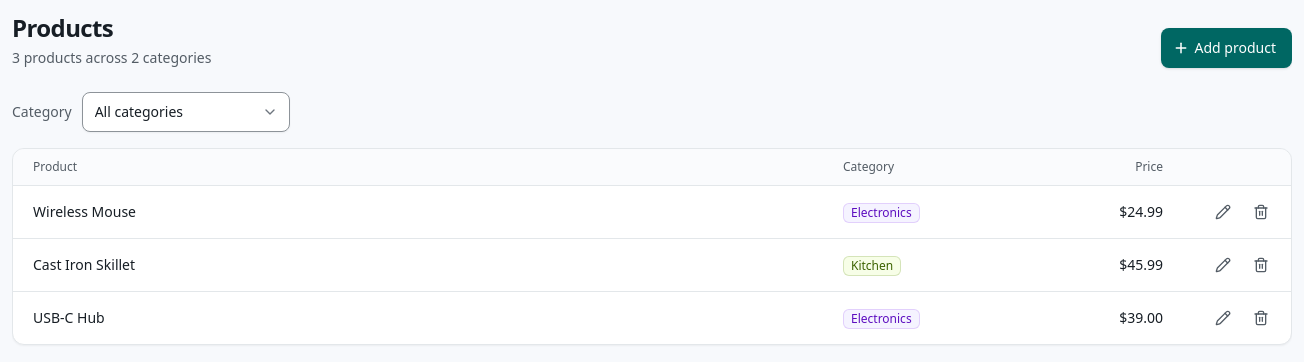
Test case: ProductsPage › summarises the catalog and the active filter
Expected: the text "3 products across 2 categories" is shown, [12,48,212,68]
Select "Electronics" in the dropdown labelled "Category" at (186, 112), box [82,92,290,132]
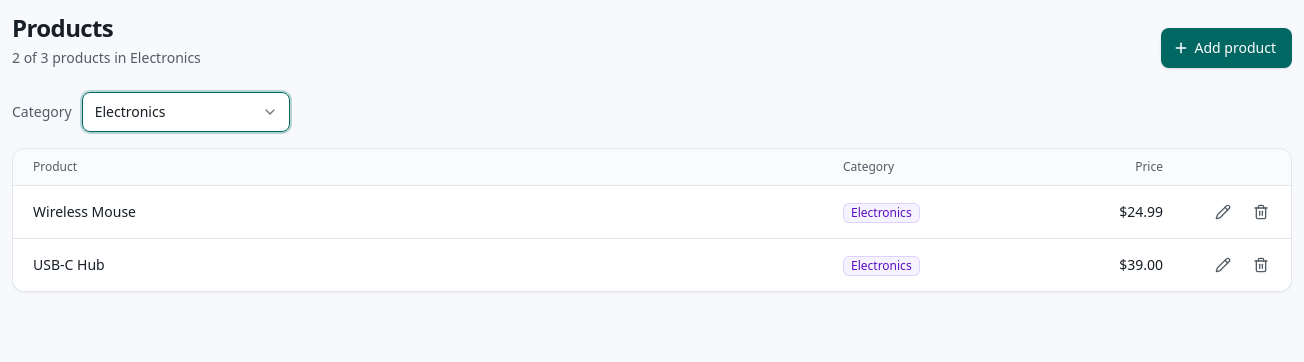
Expected: the text "2 of 3 products in Electronics" is shown, [12,48,201,68]
